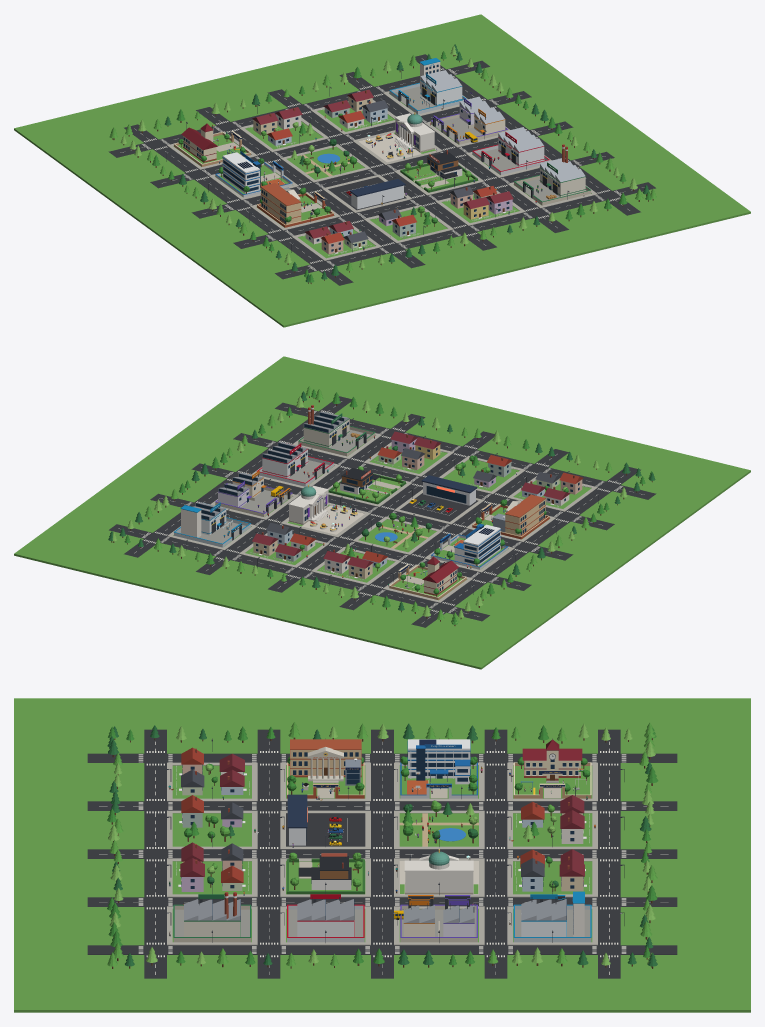
File: city.glb
3 renders of one model, top to bottom at view 1: azimuth 30°, elevation 25°; view 2: azimuth 150°, elevation 25°; view 3: azimuth 270°, elevation 25°, orthographic. The views are drawn at different scales.
Visible parts, largest first — view 1: Ground, Roads, Sidewalks, Work_1_Main, Work_2_Main, School_3_Main, Museum_Main, Park, School_2_Main, Work_5_Main, Showroom, School_1_Main (+5 smaller); view 2: Ground, Roads, Sidewalks, School_2_Main, Work_1_Main, Park, School_3_Main, Museum_Main, Work_2_Main, Showroom, Garage_Lot, School_1_Main (+7 smaller); view 3: Ground, Roads, Sidewalks, School_3_Main, Museum_Main, School_2_Main, Park, Work_1_Main, Work_2_Main, Garage_Lot, School_1_Main, Work_5_Main (+20 smaller).
Boxes of the visible parts, left/top/right/bottom form: Ground: left=14, top=14, right=750, bottom=327; Roads: left=108, top=54, right=655, bottom=285; Sidewalks: left=167, top=91, right=597, bottom=260; Work_1_Main: left=539, top=144, right=585, bottom=196; Work_2_Main: left=498, top=127, right=544, bottom=166; School_3_Main: left=260, top=183, right=301, bottom=224; Museum_Main: left=394, top=112, right=434, bottom=152; Park: left=287, top=146, right=364, bottom=179; School_2_Main: left=222, top=152, right=260, bottom=193; Work_5_Main: left=420, top=70, right=462, bottom=105; Showroom: left=349, top=179, right=405, bottom=209; School_1_Main: left=181, top=123, right=217, bottom=162; Ground: left=14, top=356, right=750, bottom=669; Roads: left=109, top=396, right=656, bottom=627; Sidewalks: left=167, top=433, right=597, bottom=602; School_2_Main: left=454, top=523, right=501, bottom=566; Work_1_Main: left=303, top=405, right=349, bottom=447; Park: left=358, top=519, right=436, bottom=552; School_3_Main: left=505, top=494, right=545, bottom=536; Museum_Main: left=288, top=484, right=328, bottom=524; Work_2_Main: left=262, top=442, right=308, bottom=478; Showroom: left=421, top=475, right=477, bottom=505; Garage_Lot: left=400, top=493, right=477, bottom=521; School_1_Main: left=422, top=556, right=458, bottom=595; Ground: left=14, top=698, right=750, bottom=1012; Roads: left=87, top=729, right=677, bottom=978; Sidewalks: left=167, top=762, right=597, bottom=945; School_3_Main: left=290, top=739, right=361, bottom=782; Museum_Main: left=404, top=849, right=473, bottom=894; School_2_Main: left=407, top=739, right=470, bottom=784; Park: left=399, top=813, right=478, bottom=846; Work_1_Main: left=184, top=892, right=240, bottom=936; Work_2_Main: left=297, top=897, right=354, bottom=936; Garage_Lot: left=286, top=813, right=365, bottom=846; School_1_Main: left=522, top=739, right=582, bottom=782; Work_5_Main: left=521, top=897, right=566, bottom=936.
Size of the model in its own units: 260 by 19 by 260.
